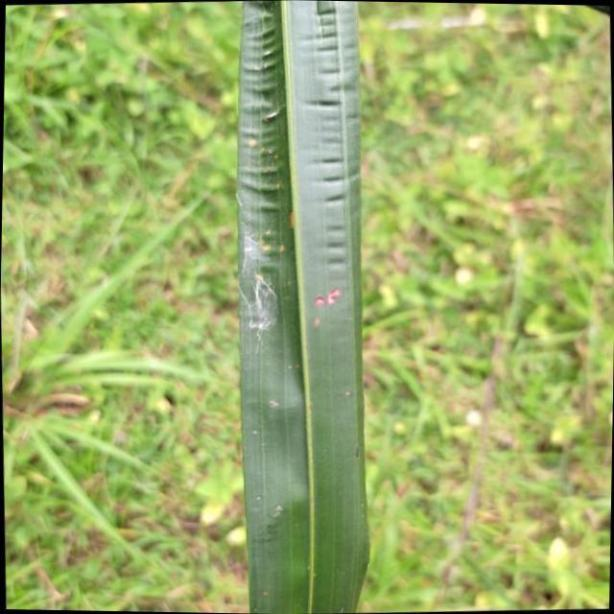Boron: (235, 0, 371, 614)
